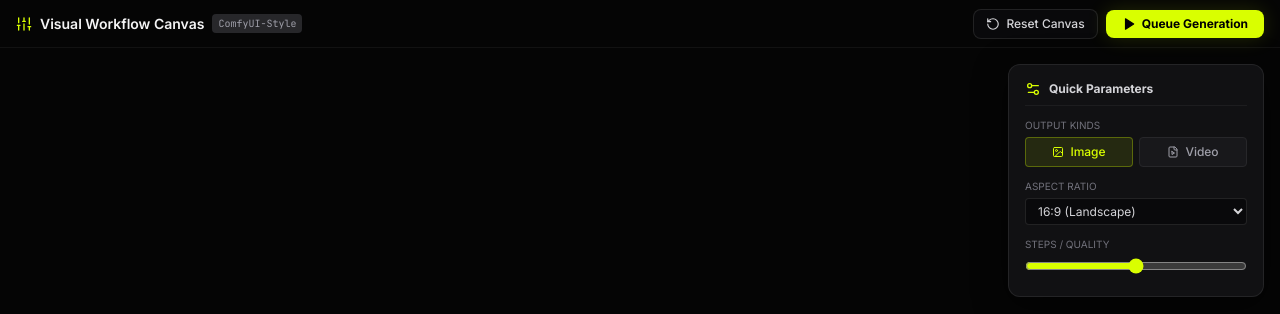
Scenario: CanvasEditor › should toggle output kind when clicked
The width and height of the screenshot is (1280, 314).
Click Video button
Step 1. Click the button "Video" → (1193, 152), box [1139,137,1247,167]
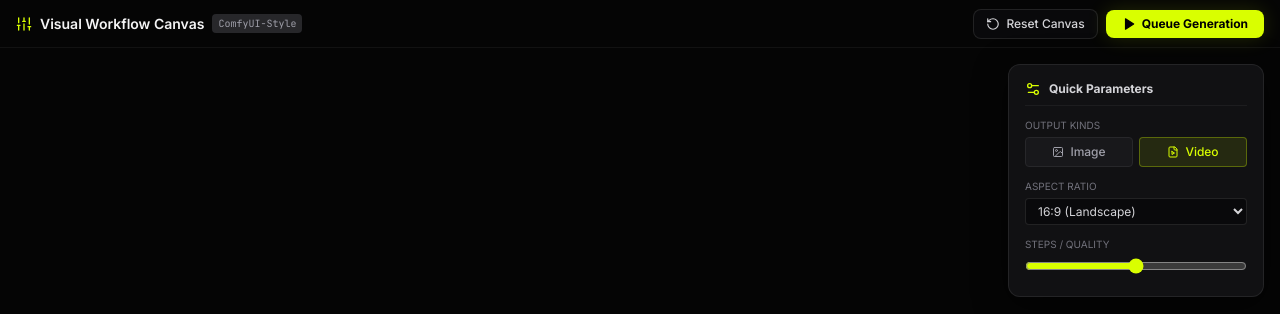
Check: the button "Video" has class "bg-[#d9ff00]/10", box [1139,137,1247,167]
Check: the button "Image" does not have class "bg-[#d9ff00]/10"
Click Image button
Step 2. Click the button "Image" → (1079, 152), box [1025,137,1133,167]
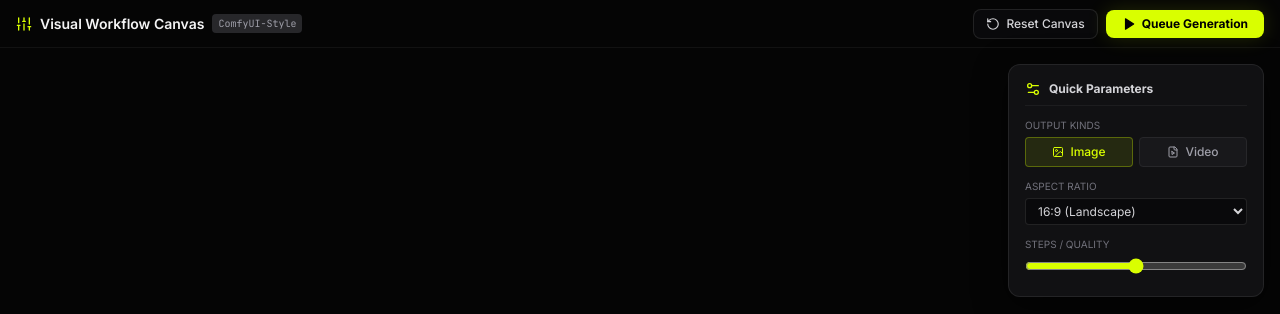
Check: the button "Image" has class "bg-[#d9ff00]/10", box [1025,137,1133,167]
Check: the button "Video" does not have class "bg-[#d9ff00]/10", box [1139,137,1247,167]
